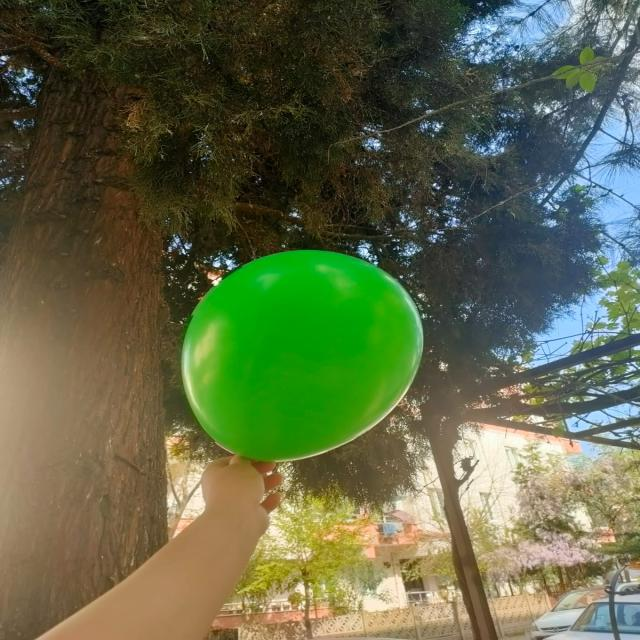green: (183, 251, 425, 465)
